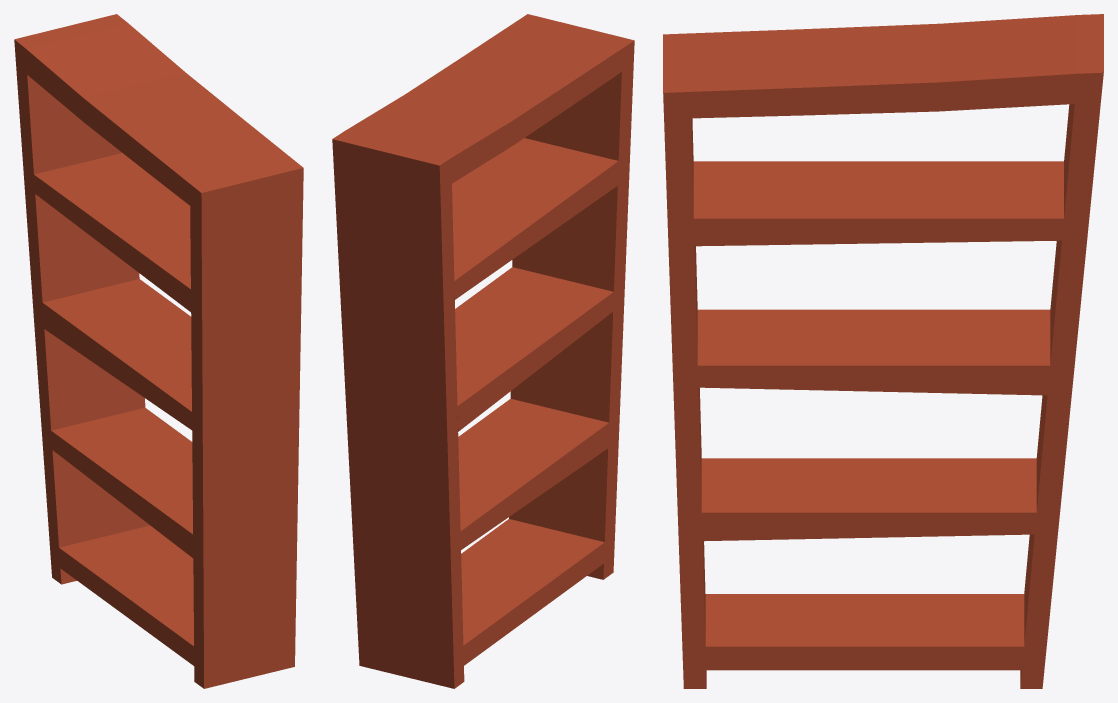
File: Book_Shlef.glb
3 views of the same model, side by side, from view 1: azimuth 30°, elevation 25°; view 2: azimuth 150°, elevation 25°; view 3: azimuth 270°, elevation 25° (orthographic). The views are drawn at different scales.
Parts seen in each view (by area): view 1: Bookcase; view 2: Bookcase; view 3: Bookcase.
Part boxes in pixels (bbox=[...]): Bookcase: bbox=[14, 14, 303, 688]; Bookcase: bbox=[332, 14, 634, 688]; Bookcase: bbox=[663, 14, 1103, 688].
Bounding box in the file's own units: 0.4861 × 2.36 × 1.53.
